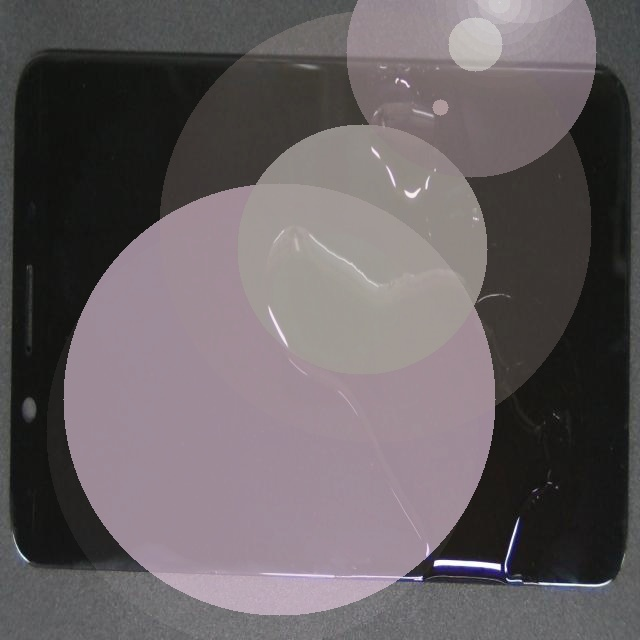oil: (106, 160, 458, 559), (194, 123, 637, 280)
